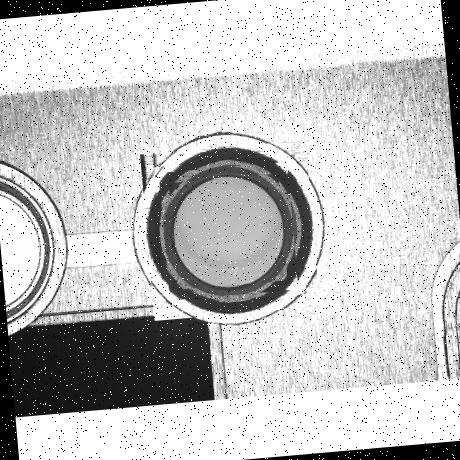Hole: (140, 140, 320, 320)
Hole2: (154, 154, 308, 306)
Hole3: (159, 162, 299, 300)
Hole4: (169, 172, 288, 290)
